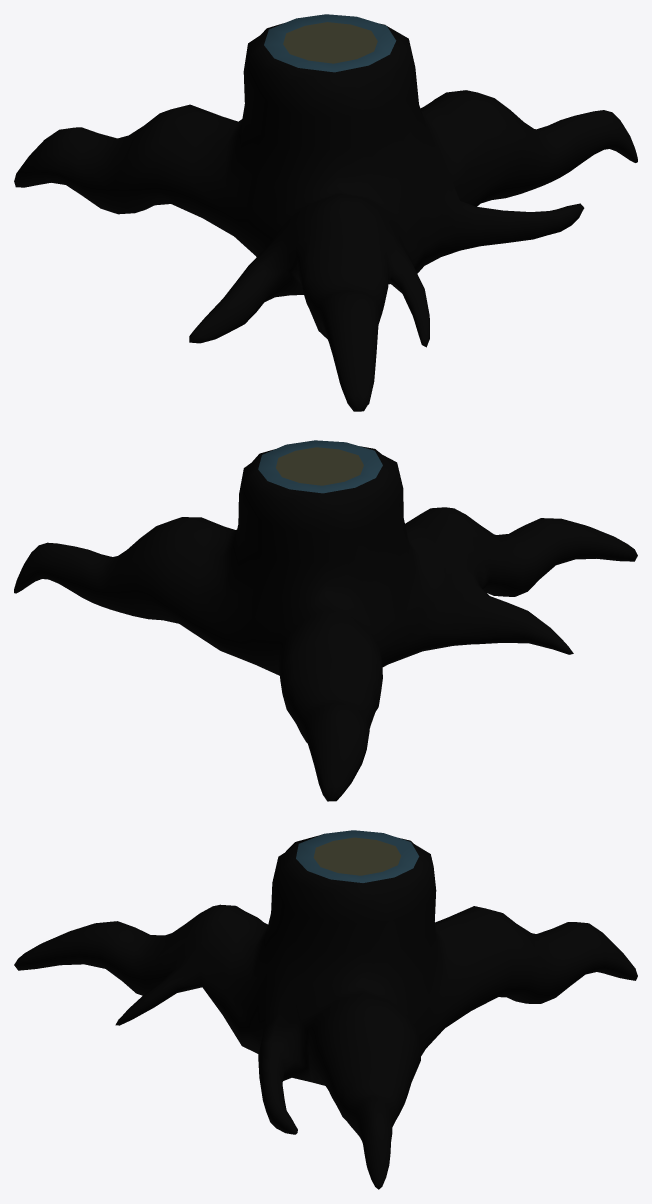
The model's file is stump.fbx.
The picture shows the model from 3 angles, top to bottom: view 1: azimuth 30°, elevation 25°; view 2: azimuth 150°, elevation 25°; view 3: azimuth 270°, elevation 25°; orthographic projection. The views are drawn at different scales.
Parts seen in each view (by area): view 1: pCylinder1; view 2: pCylinder1; view 3: pCylinder1.
Part boxes in pixels (x1,y1,x2,y2): pCylinder1: (14, 14, 637, 411); pCylinder1: (14, 440, 637, 801); pCylinder1: (14, 830, 637, 1189).
Bounding box in the file's own units: 9.57 × 3.7 × 10.66.
